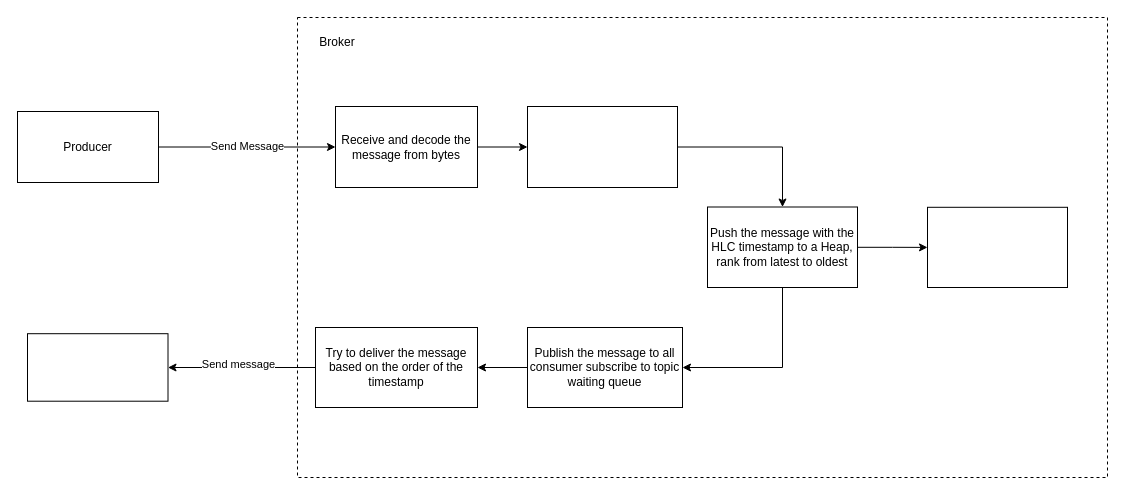
The diagram is 1125 pixels wide and 495 high, and some of its shapes have lost their labels. The shapes that lost their labels are listed below. From the top down, each one's centre as x and y in pixels, then its label:
pixel 602 147: Update the Hybrid Logical Clock (HLC) for the topic
pixel 997 247: Save to Badger DB
pixel 97 367: Consumer
